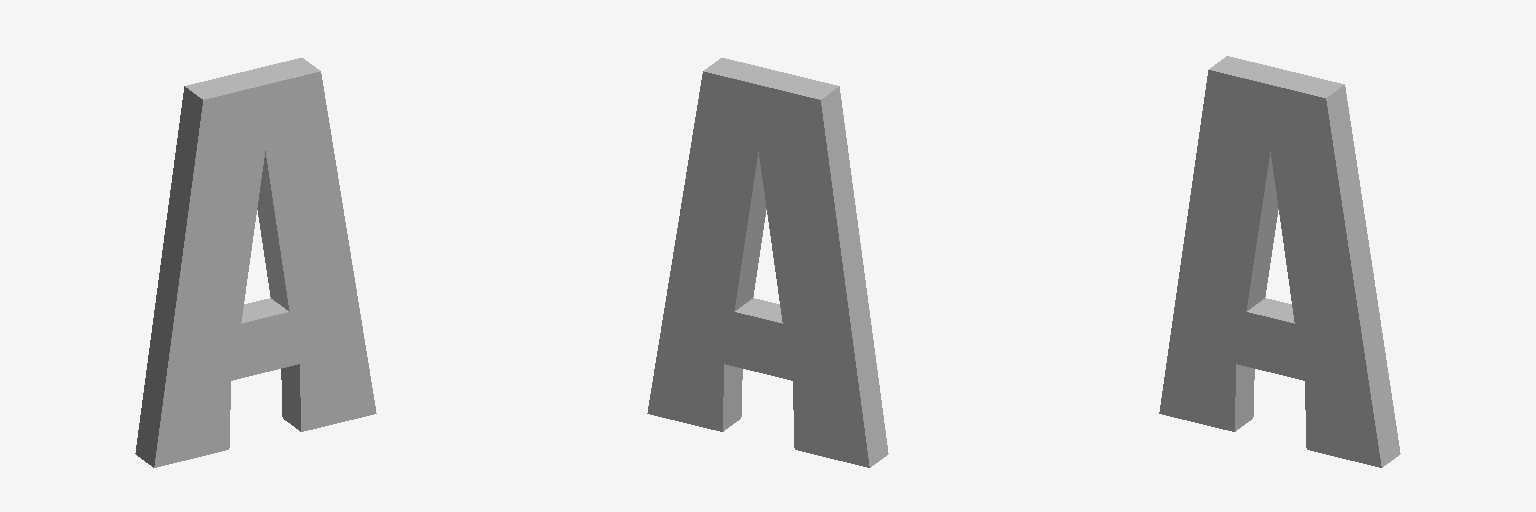
File: letterA.obj
3 renders of one model, left to right at view 1: azimuth 30°, elevation 25°; view 2: azimuth 150°, elevation 25°; view 3: azimuth 330°, elevation 25°, orthographic.
Parts seen in each view (by area): view 1: letterA; view 2: letterA; view 3: letterA.
Boxes of the visible parts, x1=… form: letterA: x1=135, y1=58, x2=376, y2=467; letterA: x1=647, y1=58, x2=888, y2=467; letterA: x1=1159, y1=56, x2=1400, y2=467.
Size of the model in its own units: 1.7 by 2.6 by 0.25.